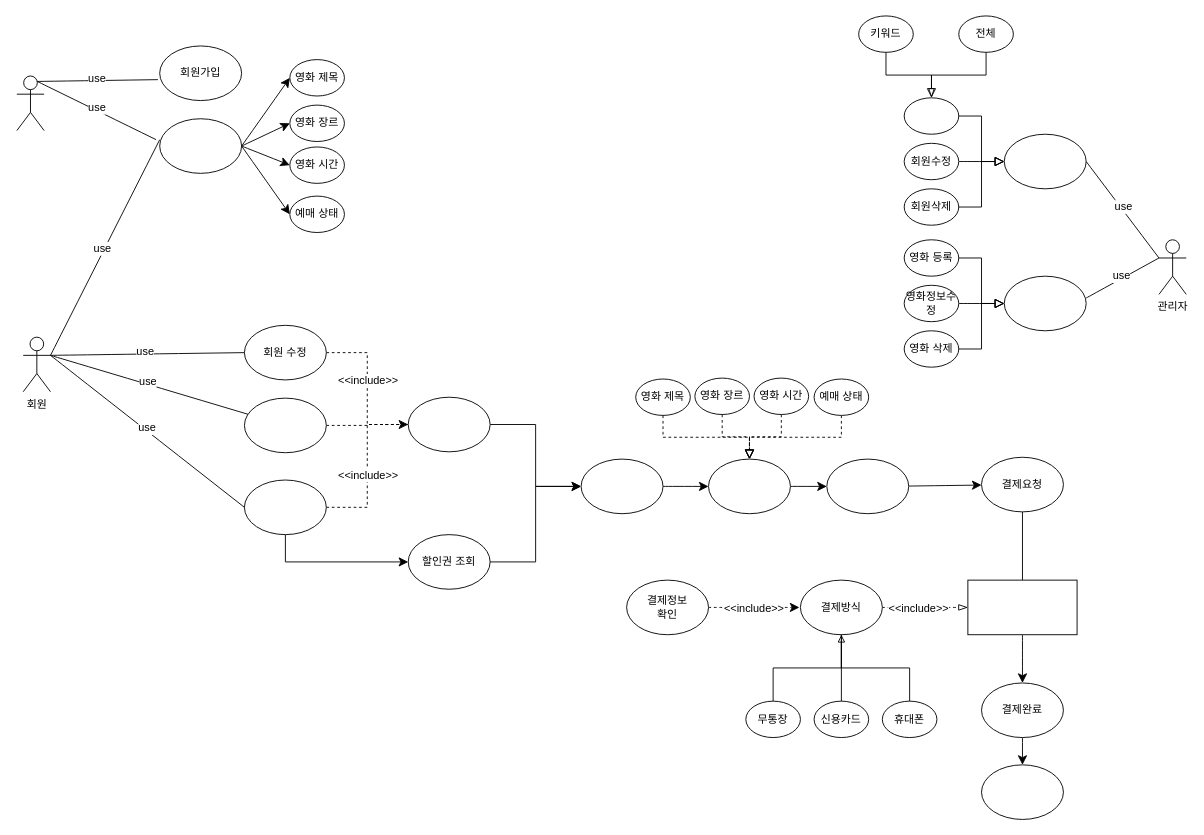
Image size: 1204x835. Some labels were removed from this diagram. Here are the shapes that lost their labels. From the top down, the centre of each, then its label:
(x=30, y=103): 비회원
(x=931, y=115): 회원조회
(x=200, y=145): 영화조회
(x=1044, y=161): 회원관리
(x=1044, y=303): 영화정보관리
(x=285, y=425): 회원탈퇴
(x=448, y=424): 로그인
(x=621, y=486): 예매
(x=749, y=486): 영화선택
(x=867, y=486): 할인권선택
(x=285, y=507): 회원정보 조회
(x=1022, y=607): 결제시스템
(x=1022, y=791): 예매완료
